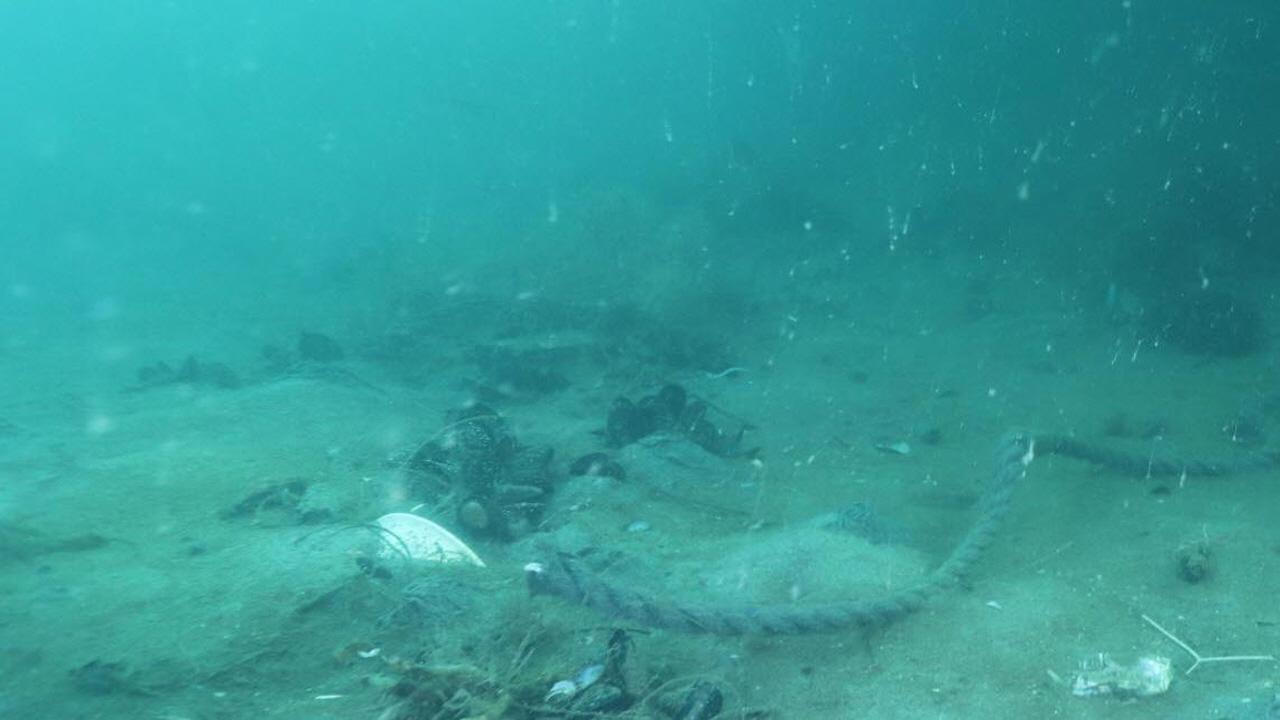rope: (523, 421, 1280, 638)
